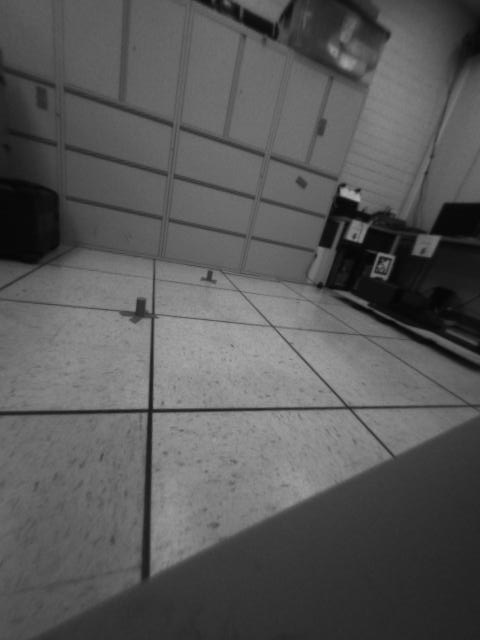X: (119, 296, 160, 327), (196, 268, 222, 286)
